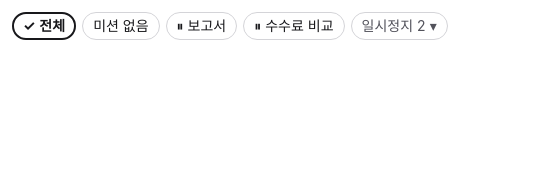
Test: WorkChipRow › 일시정지 2개 이상 — 「일시정지 2 ▾」 펼치면 이름 · 사유 · 승인 권한자
Click the button with test id "chip-paused" at (399, 26), box [351,12,448,40]
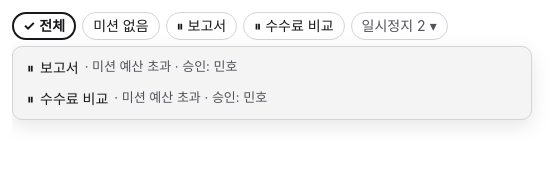
Check: the number of buttons with test id "chip-paused-item" is 2, box [19,53,525,82]; [19,84,525,113]
Check: the button with test id "chip-paused-item" shows "수수료 비교", box [19,84,525,113]
Check: the button with test id "chip-paused-item" shows "미션 예산 초과", box [19,84,525,113]
